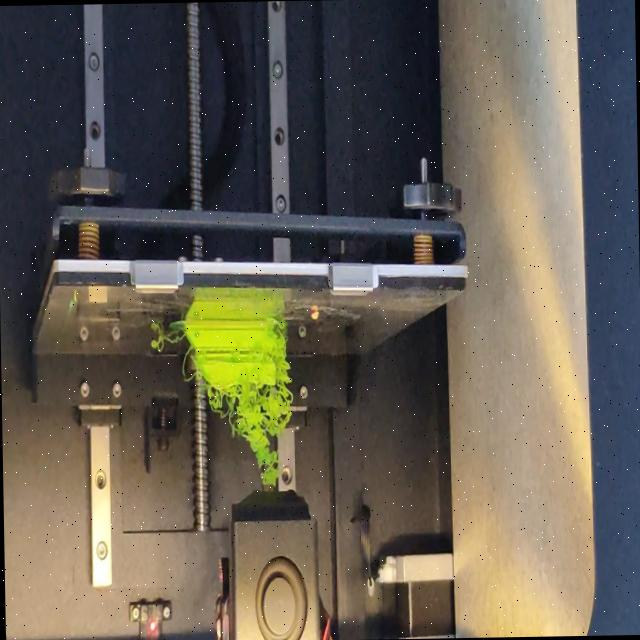spaghetti: (206, 380, 291, 495), (274, 322, 290, 384), (150, 328, 187, 351), (180, 352, 198, 384)
